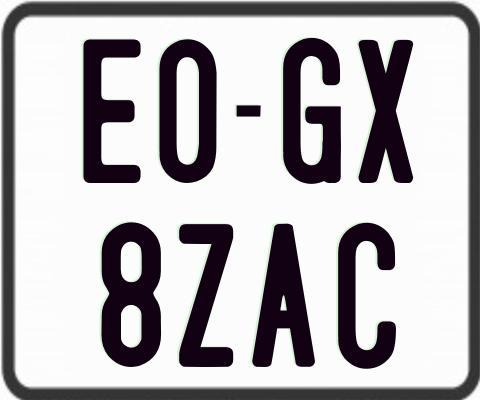0: (157, 37, 216, 187)
8: (100, 220, 166, 367)
A: (252, 223, 318, 369)
C: (338, 223, 401, 372)
E: (82, 39, 142, 185)
G: (280, 37, 338, 185)
X: (357, 40, 414, 187)
Z: (177, 221, 236, 365)
